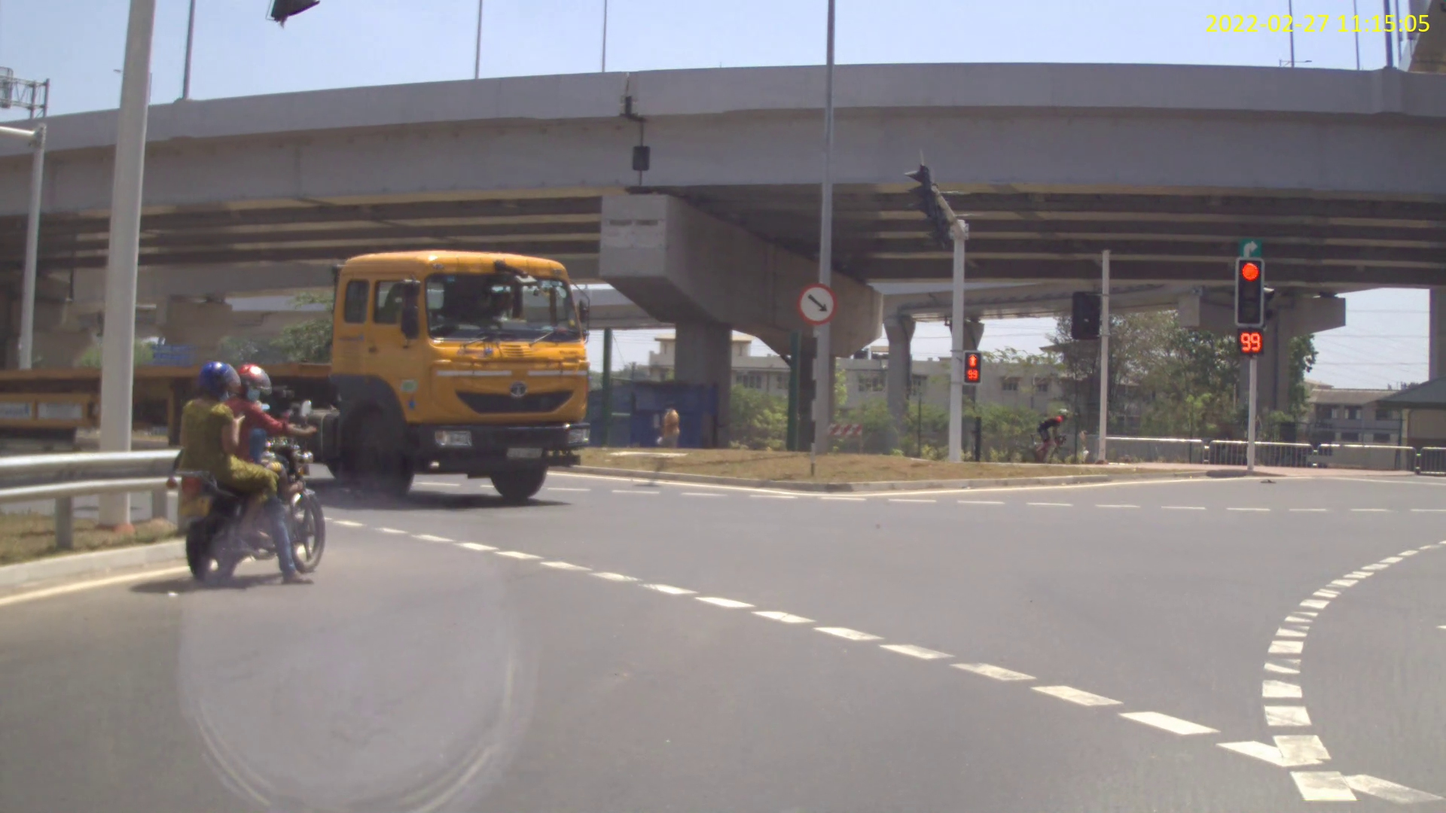green: (1236, 328, 1263, 355)
